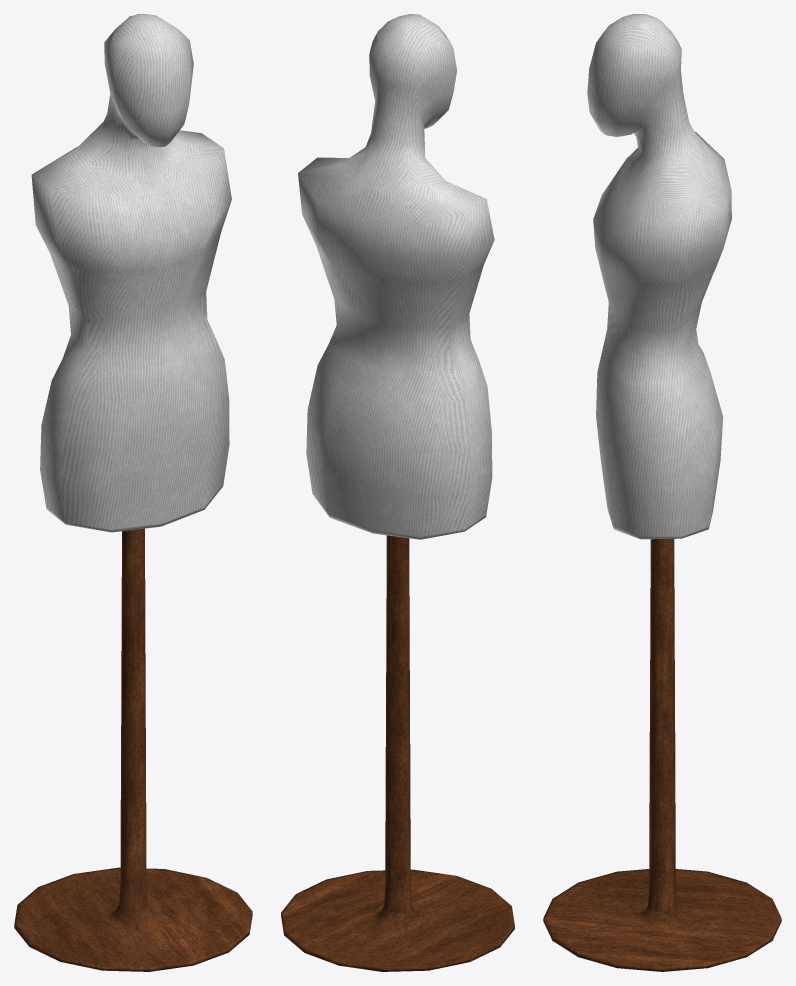
File: fbx texture.fbx
The picture shows the model from 3 angles, left to right: view 1: azimuth 30°, elevation 25°; view 2: azimuth 150°, elevation 25°; view 3: azimuth 270°, elevation 25°; orthographic projection.
Parts seen in each view (by area): view 1: FEMALE LOW; view 2: FEMALE LOW; view 3: FEMALE LOW.
Boxes of the visible parts, x1,y1,x2,y2 form: FEMALE LOW: (14, 14, 252, 971); FEMALE LOW: (281, 14, 514, 971); FEMALE LOW: (543, 14, 781, 971).
Size of the model in its own units: 0.3809 by 1.6 by 0.3809.
